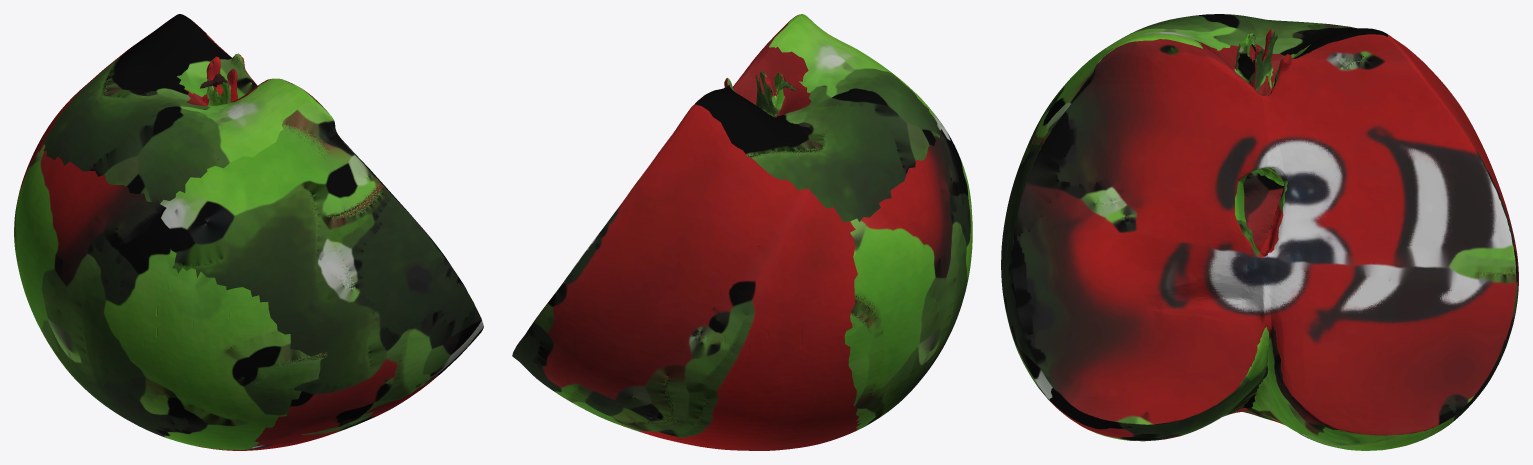
File: sample.obj
3 views of the same model, side by side, from view 1: azimuth 30°, elevation 25°; view 2: azimuth 150°, elevation 25°; view 3: azimuth 270°, elevation 25° (orthographic). The views are drawn at different scales.
Bounding box in the file's own units: 0.0919 × 0.09 × 0.1068.
